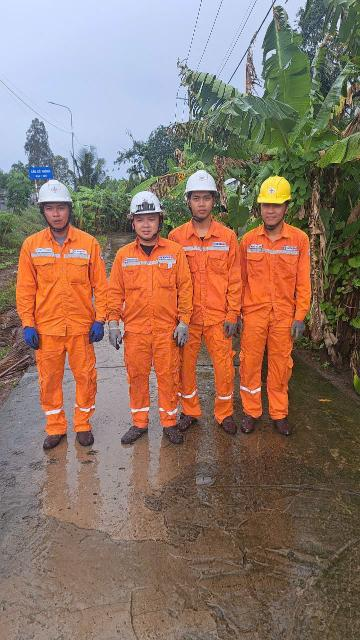helmet: (31, 179, 90, 208), (252, 176, 298, 206), (126, 188, 176, 213), (185, 172, 220, 198), (19, 323, 52, 350), (103, 314, 129, 348), (168, 318, 194, 345), (81, 316, 103, 346), (226, 312, 246, 338), (286, 318, 304, 345), (221, 318, 237, 348)
shoes: (273, 411, 302, 442), (31, 428, 70, 449), (67, 427, 106, 448), (112, 420, 153, 438), (176, 404, 198, 434), (219, 414, 247, 437), (164, 424, 188, 443), (243, 414, 262, 436)
